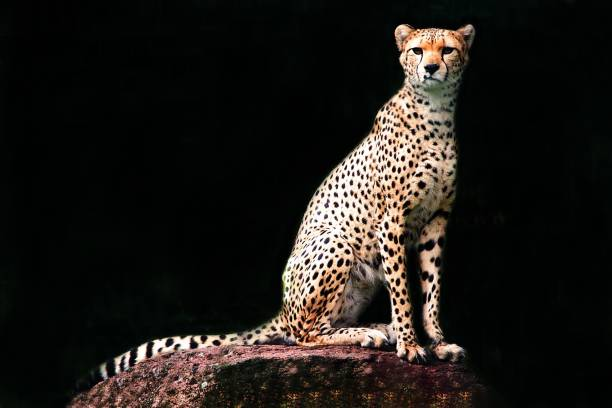cheetah: (390, 16, 485, 103)
